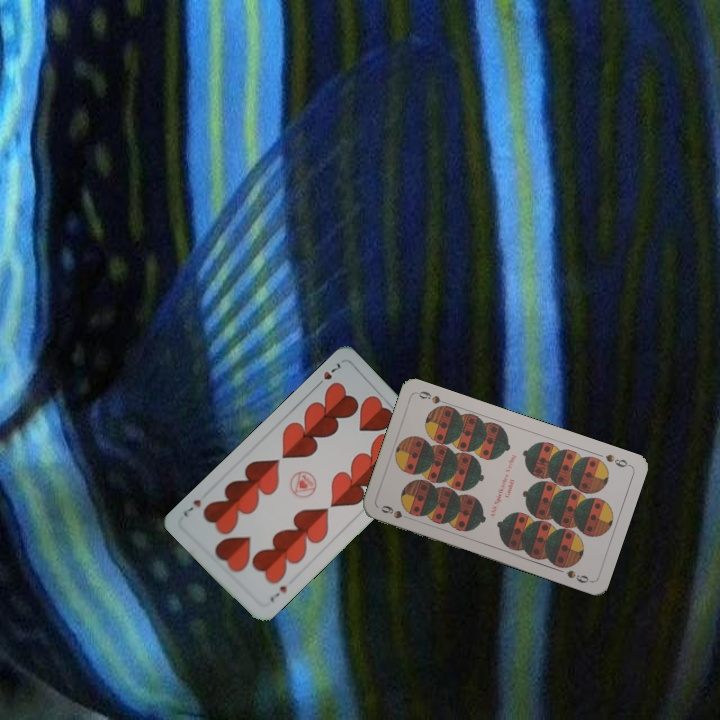H7: (311, 358, 343, 390), (266, 581, 290, 605)
S9: (377, 501, 415, 523), (601, 450, 633, 470)
